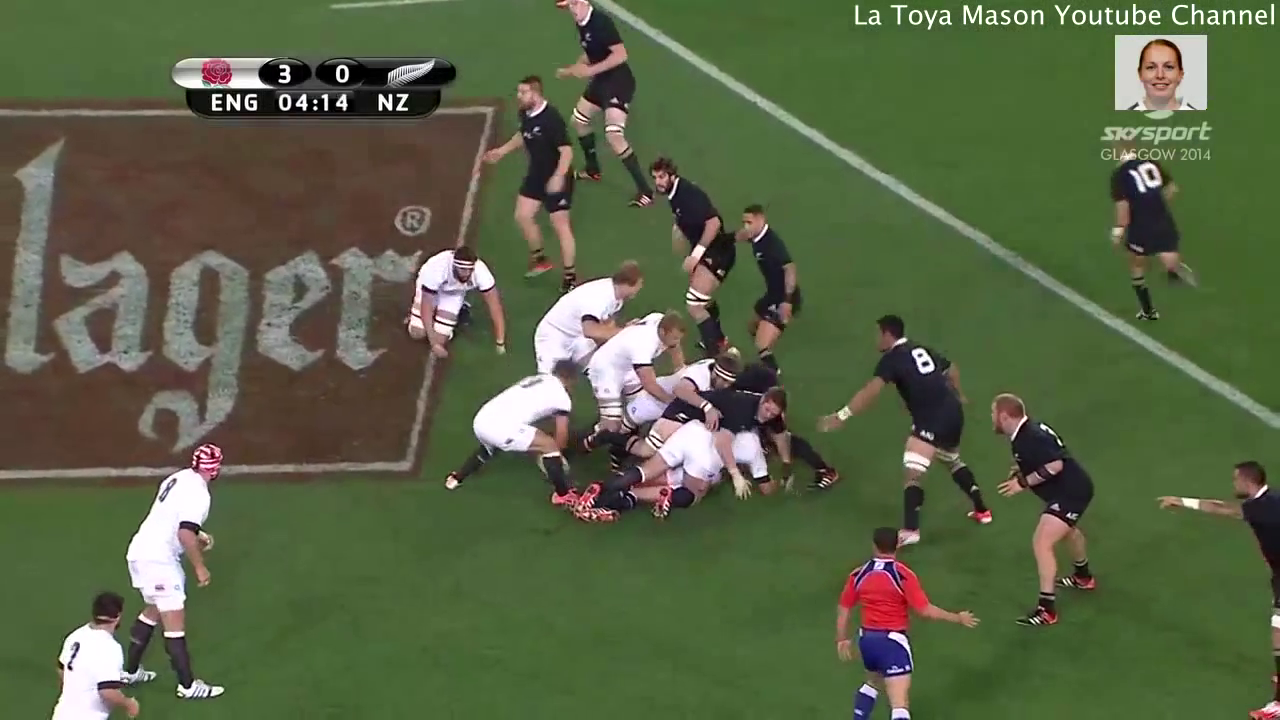player: (817, 308, 1001, 549), (113, 432, 246, 702), (1150, 456, 1280, 720), (831, 520, 986, 720), (985, 392, 1097, 632), (472, 73, 585, 298), (550, 1, 661, 212), (1097, 130, 1203, 328), (441, 356, 585, 501), (645, 161, 739, 355), (524, 256, 647, 384), (568, 307, 684, 432), (38, 588, 147, 720), (729, 201, 809, 376), (661, 380, 788, 428)
ruck: (582, 351, 810, 520)
